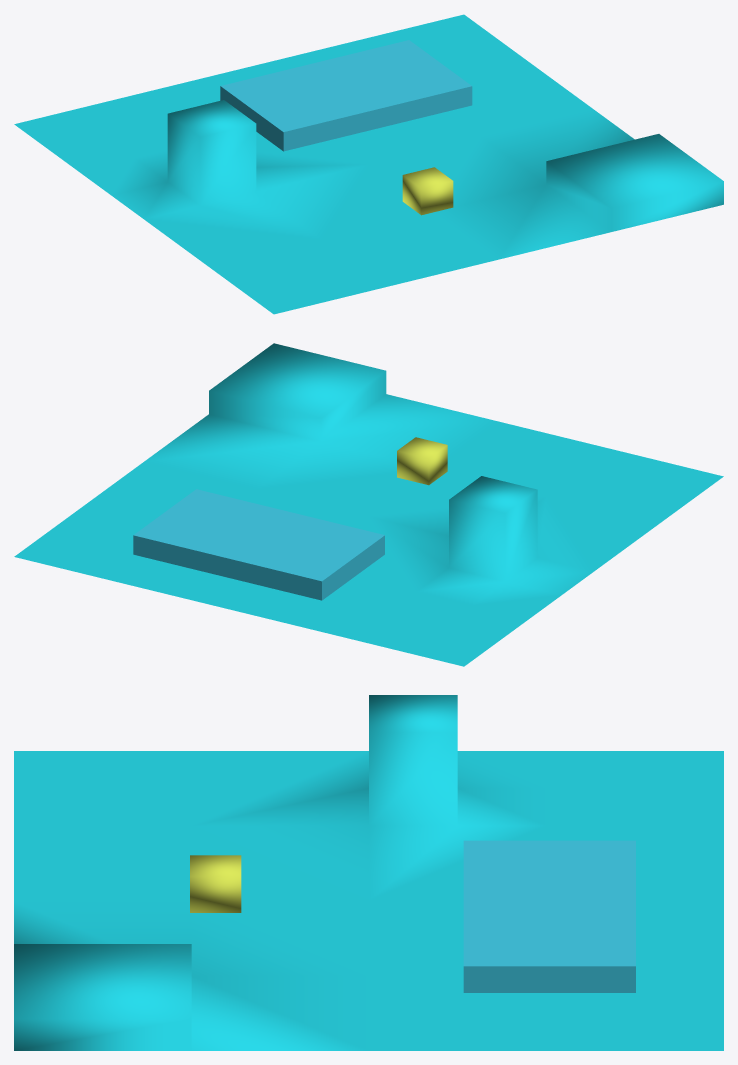
3 views of the same model, one above another, from view 1: azimuth 30°, elevation 25°; view 2: azimuth 150°, elevation 25°; view 3: azimuth 270°, elevation 25° (orthographic). The views are drawn at different scales.
Parts seen in each view (by area): view 1: Plane, Cube.001, Cube; view 2: Plane, Cube.001, Cube; view 3: Plane, Cube.001, Cube.
Boxes of the visible parts, box(x1,y1,x2,y2) form: Plane: box(14, 14, 723, 314); Cube.001: box(220, 40, 472, 151); Cube: box(402, 167, 453, 215); Plane: box(14, 343, 723, 666); Cube.001: box(133, 489, 384, 600); Cube: box(397, 437, 447, 485); Plane: box(14, 695, 723, 1050); Cube.001: box(463, 840, 635, 992); Cube: box(190, 855, 241, 912).
Size of the model in its own units: 136 by 22.26 by 136.
